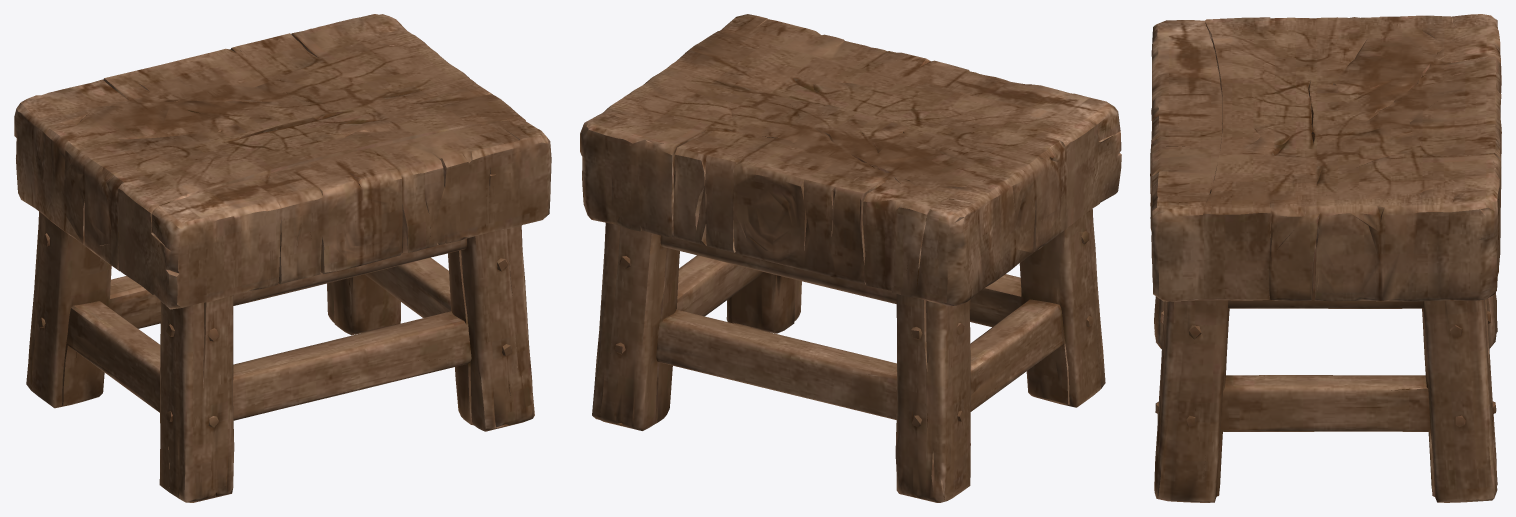
File: ButcherBlock.glb
The picture shows the model from 3 angles, left to right: view 1: azimuth 30°, elevation 25°; view 2: azimuth 150°, elevation 25°; view 3: azimuth 270°, elevation 25°; orthographic projection. The views are drawn at different scales.
Visible parts, largest first — view 1: ButcherBlock; view 2: ButcherBlock; view 3: ButcherBlock.
Part boxes in pixels (<box>): ButcherBlock: <box>14,14,551,502</box>; ButcherBlock: <box>580,14,1121,502</box>; ButcherBlock: <box>1150,14,1501,502</box>.
Size of the model in its own units: 1.23 by 0.8996 by 0.9314.
Materials: 1 (1 with a texture image).
